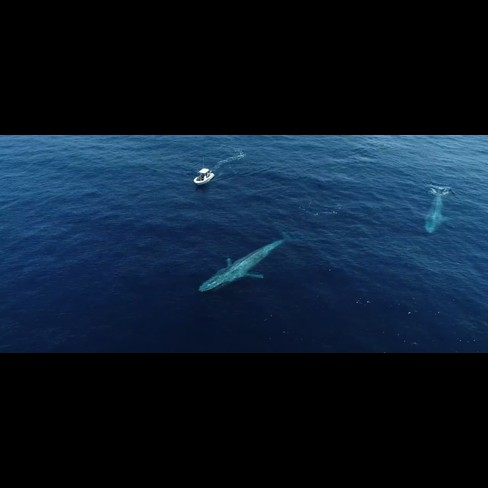bluewhale: (193, 238, 290, 296), (421, 186, 451, 236)
boat: (191, 165, 216, 189)
